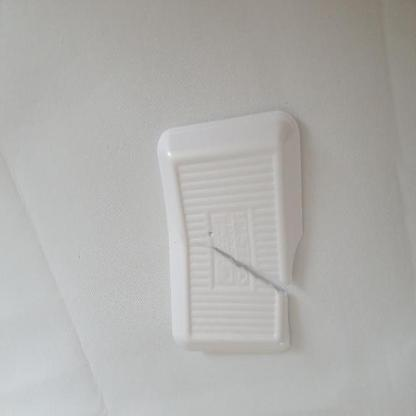Glass Cup: (157, 107, 306, 354), (158, 110, 303, 352)
